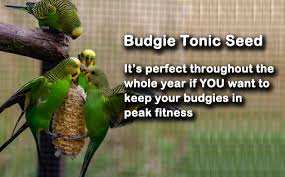budgie: (2, 57, 85, 158), (82, 65, 124, 177), (1, 1, 84, 41), (75, 48, 98, 67)
